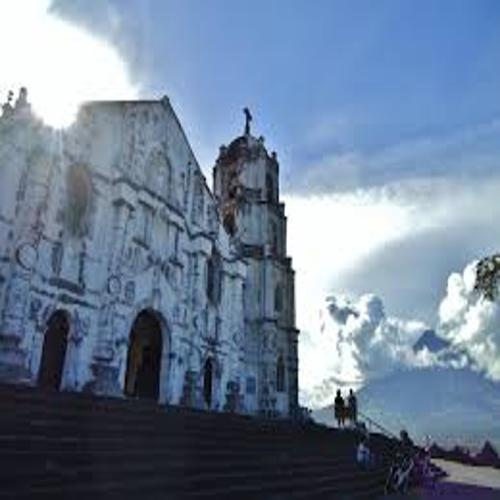Daraga Church: (1, 66, 304, 428)
